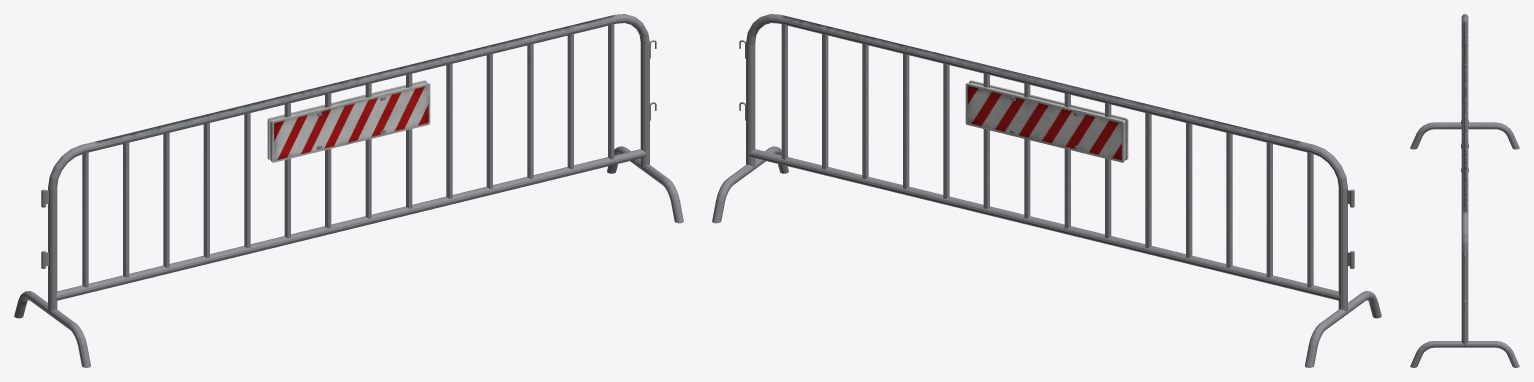
The model's file is Metal_Barrier.glb.
The picture shows the model from 3 angles, left to right: view 1: azimuth 30°, elevation 25°; view 2: azimuth 150°, elevation 25°; view 3: azimuth 270°, elevation 25°; orthographic projection. The views are drawn at different scales.
Visible parts, largest first — view 1: Metal_Barrier; view 2: Metal_Barrier; view 3: Metal_Barrier.
Boxes of the visible parts, bbox=[...] form: Metal_Barrier: bbox=[14, 14, 683, 367]; Metal_Barrier: bbox=[712, 14, 1381, 367]; Metal_Barrier: bbox=[1410, 14, 1519, 367].
Bounding box in the file's own units: 3.29 × 0.9654 × 0.6741.
1 material, 1 textured.
